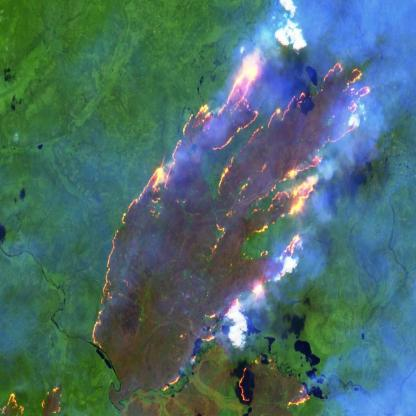fire: (90, 41, 374, 416), (0, 379, 68, 416)
